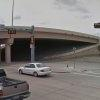Bridge: (1, 13, 96, 54)
